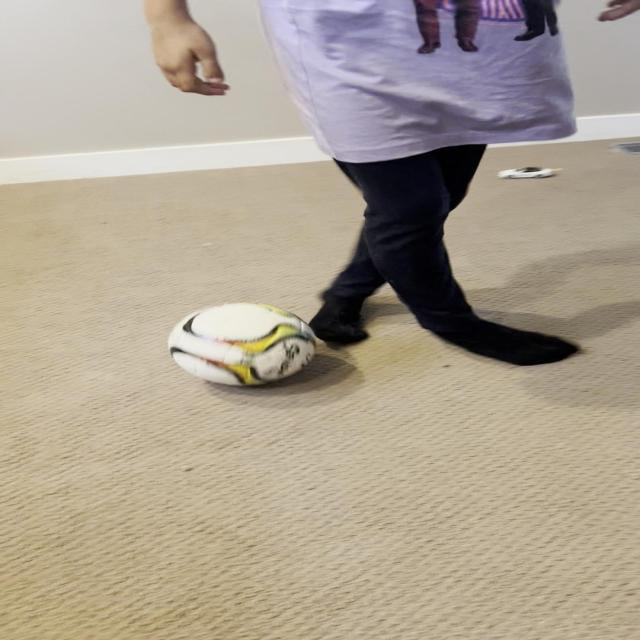Soccer Ball: (172, 303, 321, 384)
